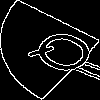Q: (25, 24, 100, 85)
